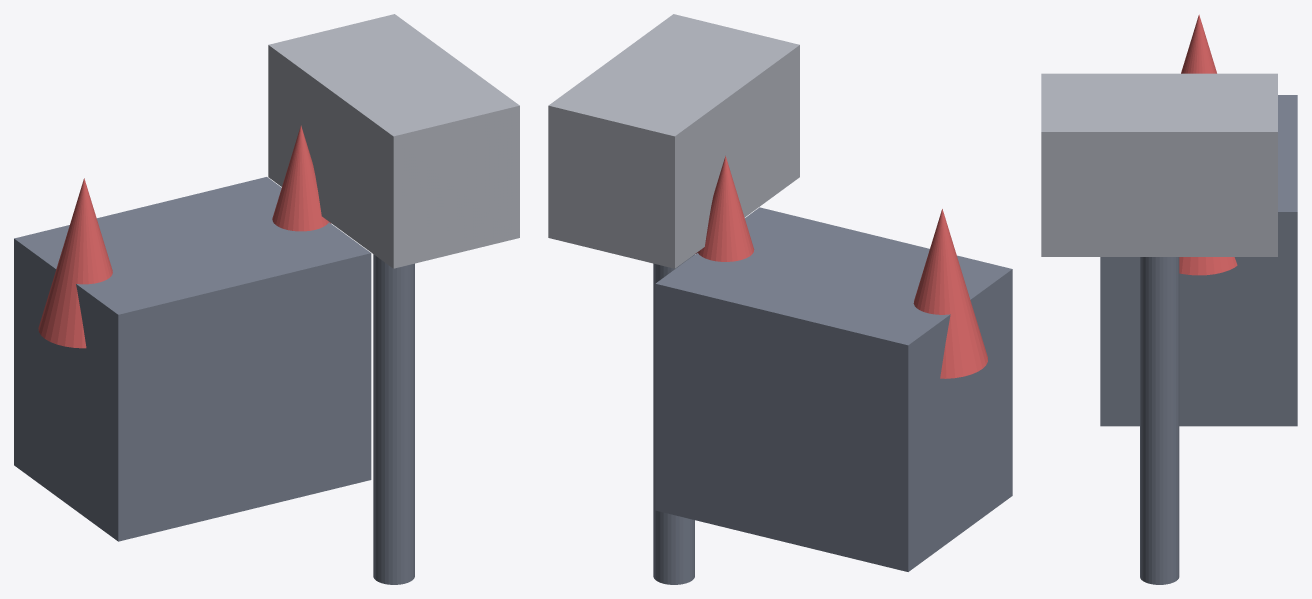
Rendered from hammer_brute.glb.
The picture shows the model from 3 angles, left to right: view 1: azimuth 30°, elevation 25°; view 2: azimuth 150°, elevation 25°; view 3: azimuth 270°, elevation 25°; orthographic projection. The views are drawn at different scales.
Visible parts, largest first — view 1: Cube, Cube.001, Cylinder, Cone, Cone.001; view 2: Cube, Cube.001, Cone, Cylinder, Cone.001; view 3: Cube.001, Cube, Cylinder, Cone, Cone.001.
Boxes of the visible parts, x1,y1,x2,y2 form: Cube: [14, 177, 371, 541]; Cube.001: [268, 14, 519, 268]; Cylinder: [373, 254, 414, 584]; Cone: [38, 178, 112, 348]; Cone.001: [272, 125, 330, 231]; Cube: [655, 207, 1012, 571]; Cube.001: [548, 14, 799, 268]; Cone: [913, 209, 987, 378]; Cylinder: [653, 254, 694, 584]; Cone.001: [695, 156, 754, 261]; Cube.001: [1041, 73, 1277, 256]; Cube: [1100, 95, 1297, 426]; Cylinder: [1140, 257, 1179, 584]; Cone: [1181, 14, 1216, 73]; Cone.001: [1179, 257, 1237, 275].
Bounding box in the file's own units: 2.17 × 2.65 × 1.3.
